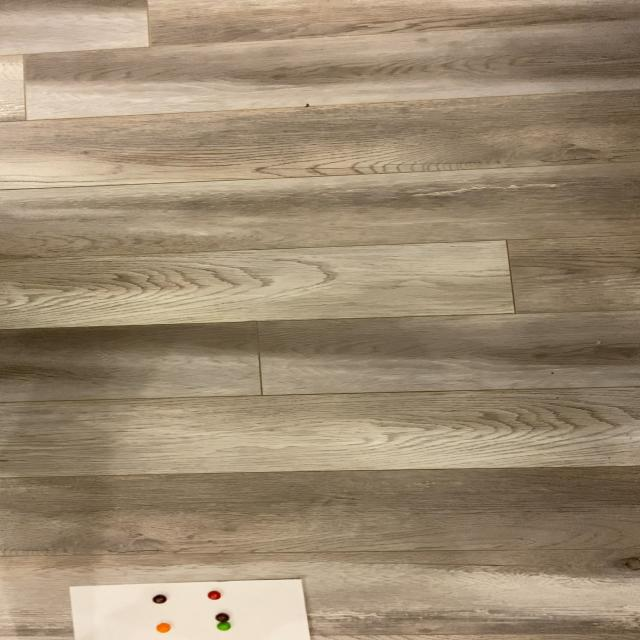smartie: (214, 614, 229, 624), (155, 624, 169, 634), (151, 596, 165, 605), (206, 592, 220, 601), (216, 623, 230, 632)
